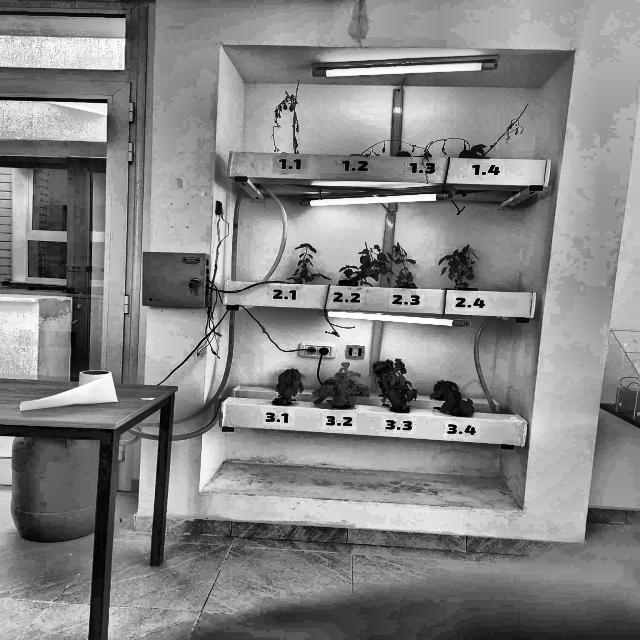plants: (469, 104, 537, 158), (273, 82, 303, 152), (372, 361, 409, 415), (338, 246, 389, 285), (440, 242, 480, 288), (321, 361, 370, 397), (272, 368, 310, 405), (287, 242, 319, 285), (389, 242, 419, 286), (359, 138, 431, 156), (314, 376, 354, 404), (427, 137, 472, 159), (442, 391, 473, 416), (432, 380, 462, 401), (458, 144, 488, 160), (396, 150, 412, 157)
